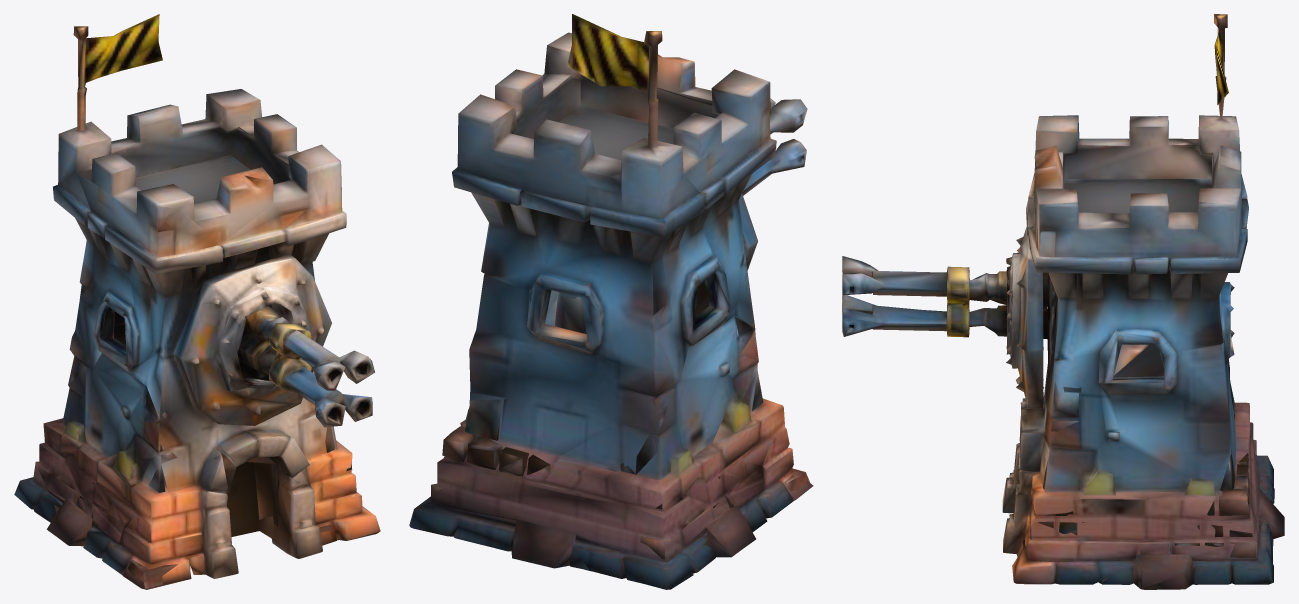
The model's file is jiqiangpao-3.glb.
3 views of the same model, side by side, from view 1: azimuth 30°, elevation 25°; view 2: azimuth 150°, elevation 25°; view 3: azimuth 270°, elevation 25° (orthographic). The views are drawn at different scales.
Visible parts, largest first — view 1: node_0; view 2: node_0; view 3: node_0.
Boxes of the visible parts, x1,y1,x2,y2 form: node_0: [14, 14, 380, 589]; node_0: [409, 14, 813, 589]; node_0: [842, 14, 1284, 589].
Bounding box in the file's own units: 0.4986 × 0.8741 × 0.7378.
1 material, 1 textured.
